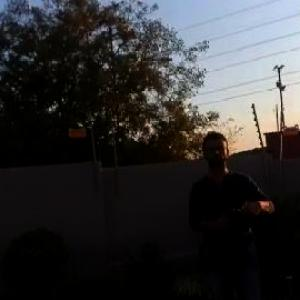follow: (186, 127, 278, 299)
